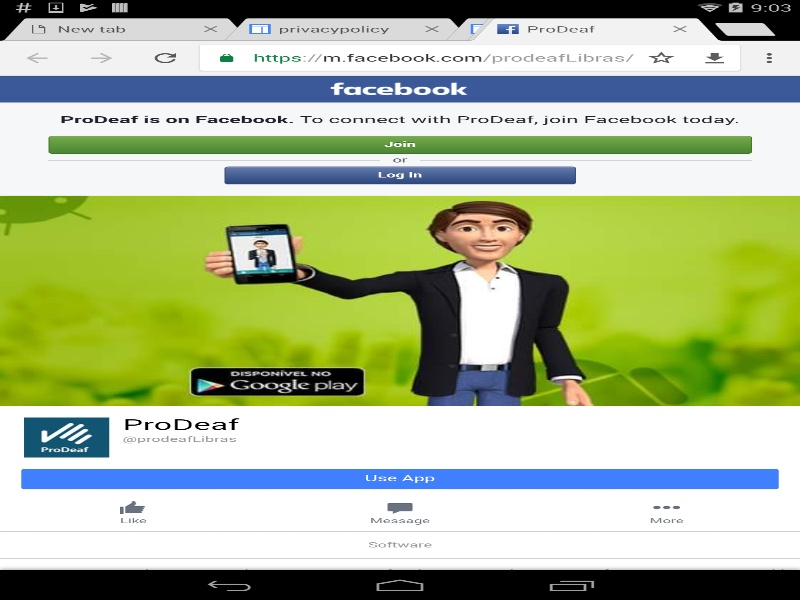Button: (48, 135, 752, 153), (266, 494, 533, 531), (533, 494, 800, 531), (0, 494, 266, 531), (224, 166, 576, 184), (5, 40, 69, 75), (69, 40, 133, 75), (133, 40, 197, 75), (742, 40, 800, 75), (634, 45, 688, 70), (200, 45, 253, 70), (688, 45, 741, 70)
Input: (253, 46, 634, 68)
